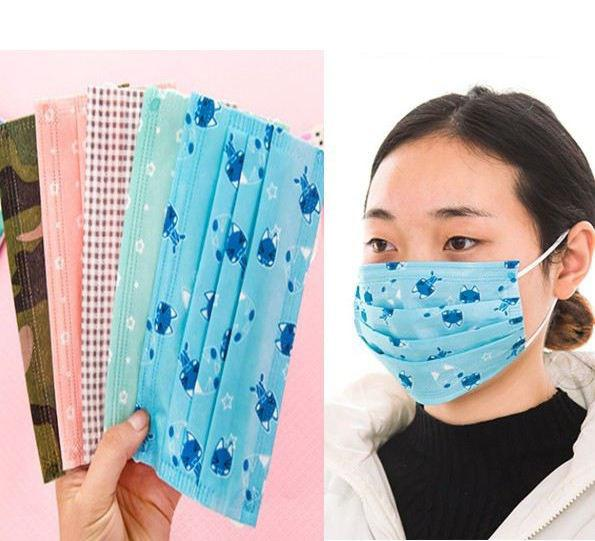OK: (338, 198, 543, 403)
